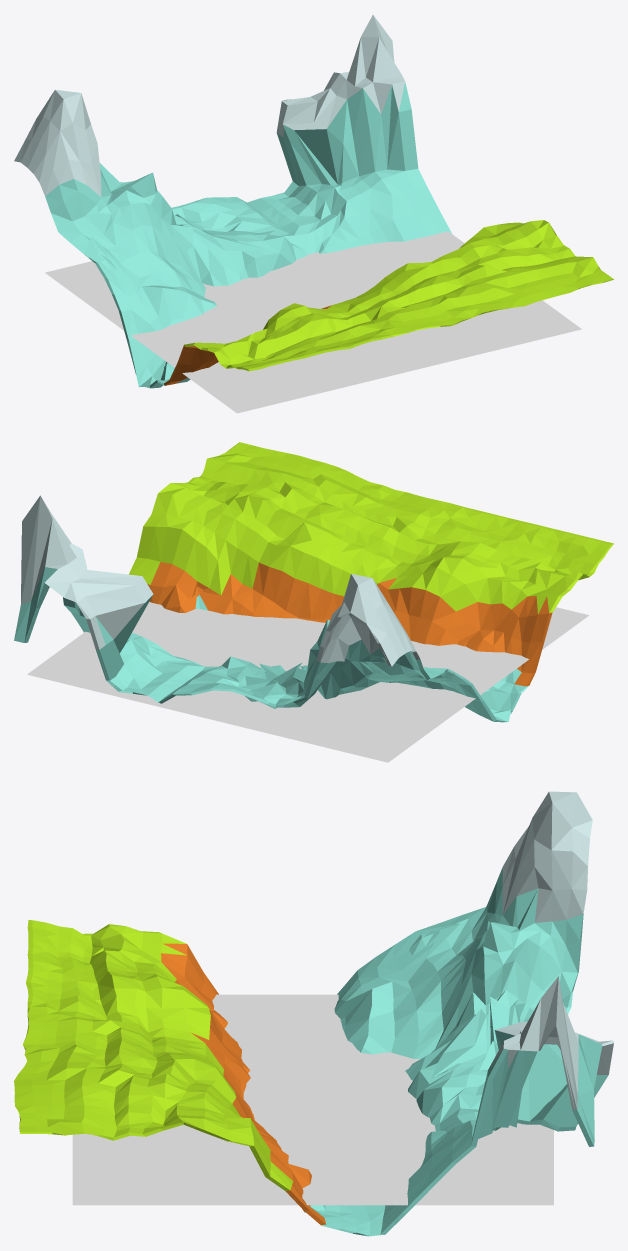
Rendered from ProjectGround (1).fbx.
3 views of the same model, one above another, from view 1: azimuth 30°, elevation 25°; view 2: azimuth 150°, elevation 25°; view 3: azimuth 270°, elevation 25° (orthographic). The views are drawn at different scales.
Parts seen in each view (by area): view 1: 평면.003, 평면.001, 평면; view 2: 평면.003, 평면.001, 평면; view 3: 평면.003, 평면.001, 평면, 평면.002.
Part boxes in pixels (x1,y1,x2,y2): 평면.003: (14,15,613,387); 평면.001: (45,231,581,413); 평면: (75,247,613,388); 평면.003: (14,442,613,722); 평면.001: (27,602,588,762); 평면: (26,544,613,722); 평면.003: (14,791,613,1235); 평면.001: (72,994,553,1205); 평면: (20,911,613,1236); 평면.002: (18,930,613,1236).
Size of the model in its own units: 24818 by 13832 by 27276.
